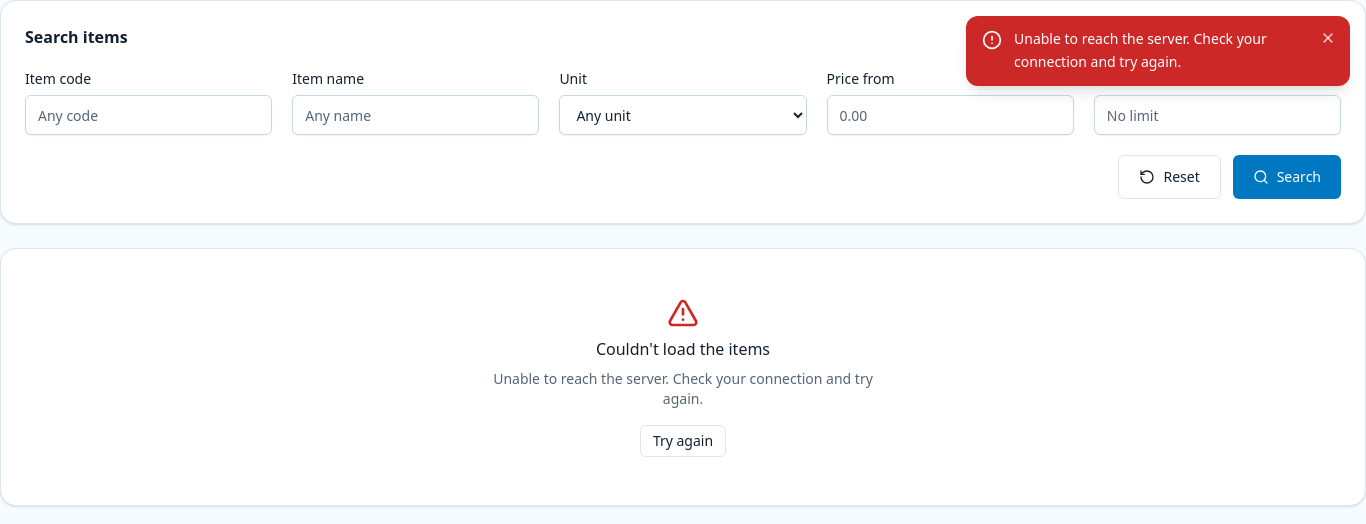
Test case: ItemListPage › shows the error in a red toast and loads again on retry
Expected: the text "Couldn't load the items" is shown, [596,337,770,361]
What coordinates should you click on to do the following:
click the button "Try again"
I would click on:
 (683, 441)
Its box is [640,425,726,457].
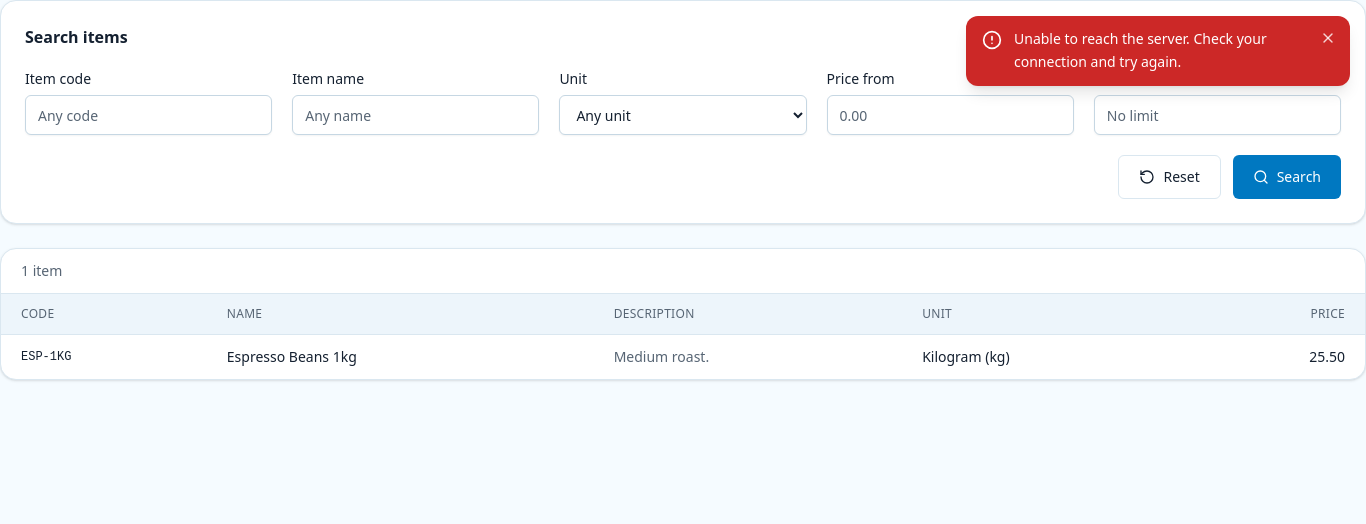
Expected: the text "Espresso Beans 1kg" is shown, [207,334,594,379]
